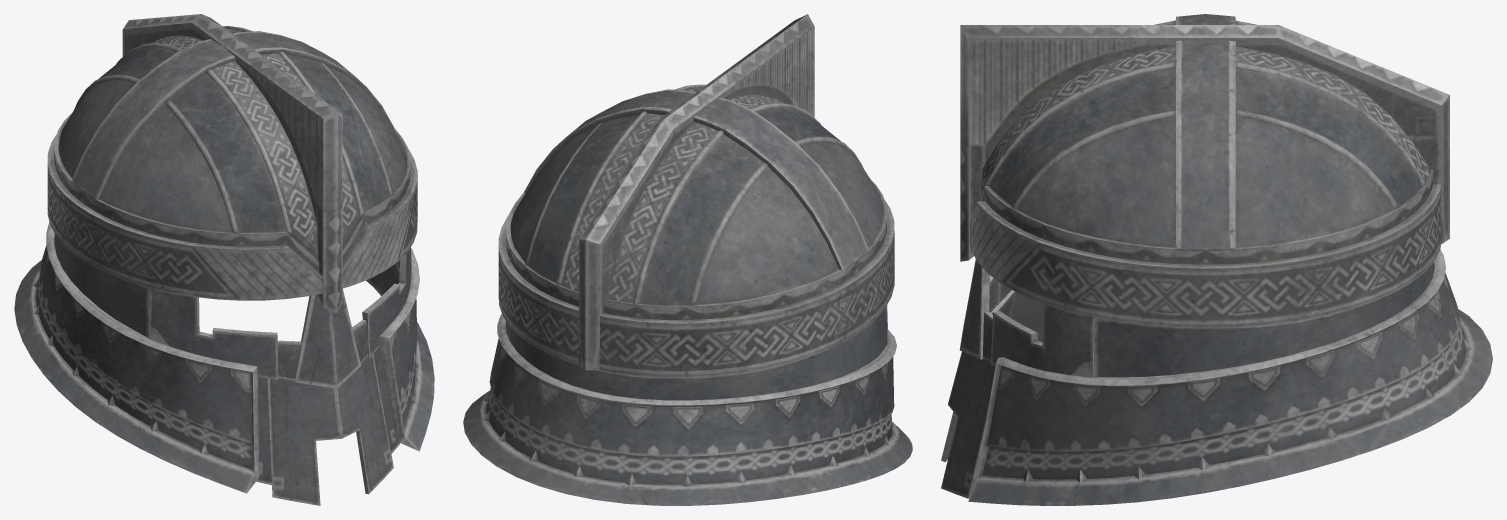
Rendered from sk_dwarf_erebor_helmet_plate_elite_d.fbx.
The picture shows the model from 3 angles, left to right: view 1: azimuth 30°, elevation 25°; view 2: azimuth 150°, elevation 25°; view 3: azimuth 270°, elevation 25°; orthographic projection. The views are drawn at different scales.
Parts seen in each view (by area): view 1: sk_dwarf_erebor_helmet_plate_elite_d; view 2: sk_dwarf_erebor_helmet_plate_elite_d; view 3: sk_dwarf_erebor_helmet_plate_elite_d.
Part boxes in pixels (x1=…): sk_dwarf_erebor_helmet_plate_elite_d: x1=14, y1=14, x2=434, y2=505; sk_dwarf_erebor_helmet_plate_elite_d: x1=463, y1=14, x2=912, y2=505; sk_dwarf_erebor_helmet_plate_elite_d: x1=941, y1=14, x2=1492, y2=505.
Bounding box in the file's own units: 0.2865 × 0.3337 × 0.3005.
1 material, 1 textured.
